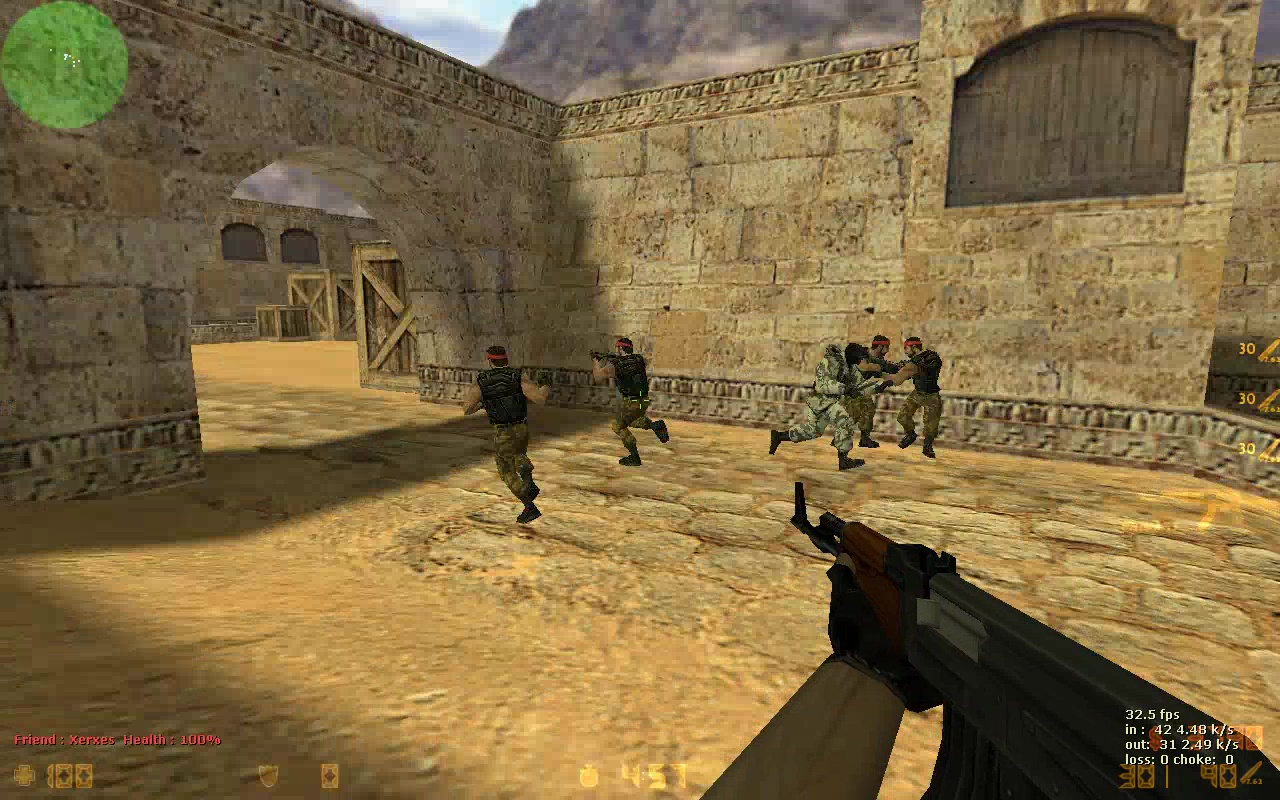terr1: (460, 344, 561, 524), (589, 335, 677, 468), (885, 337, 945, 452)
terr2: (763, 342, 879, 470)
